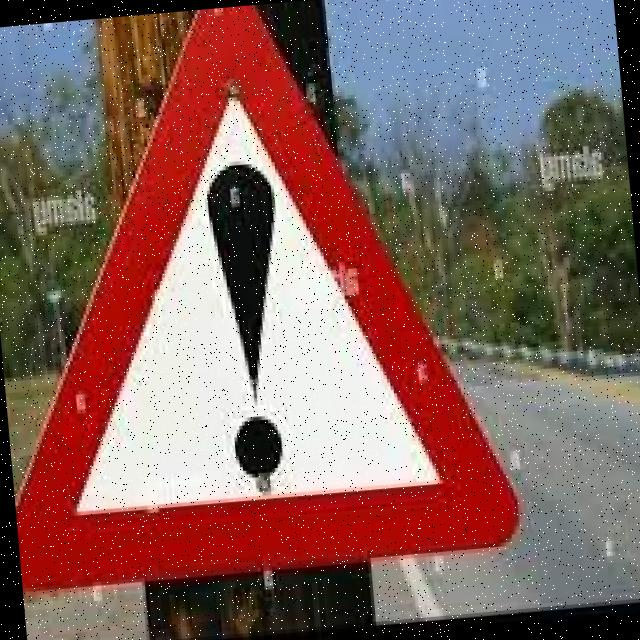warning: (0, 0, 533, 602)
